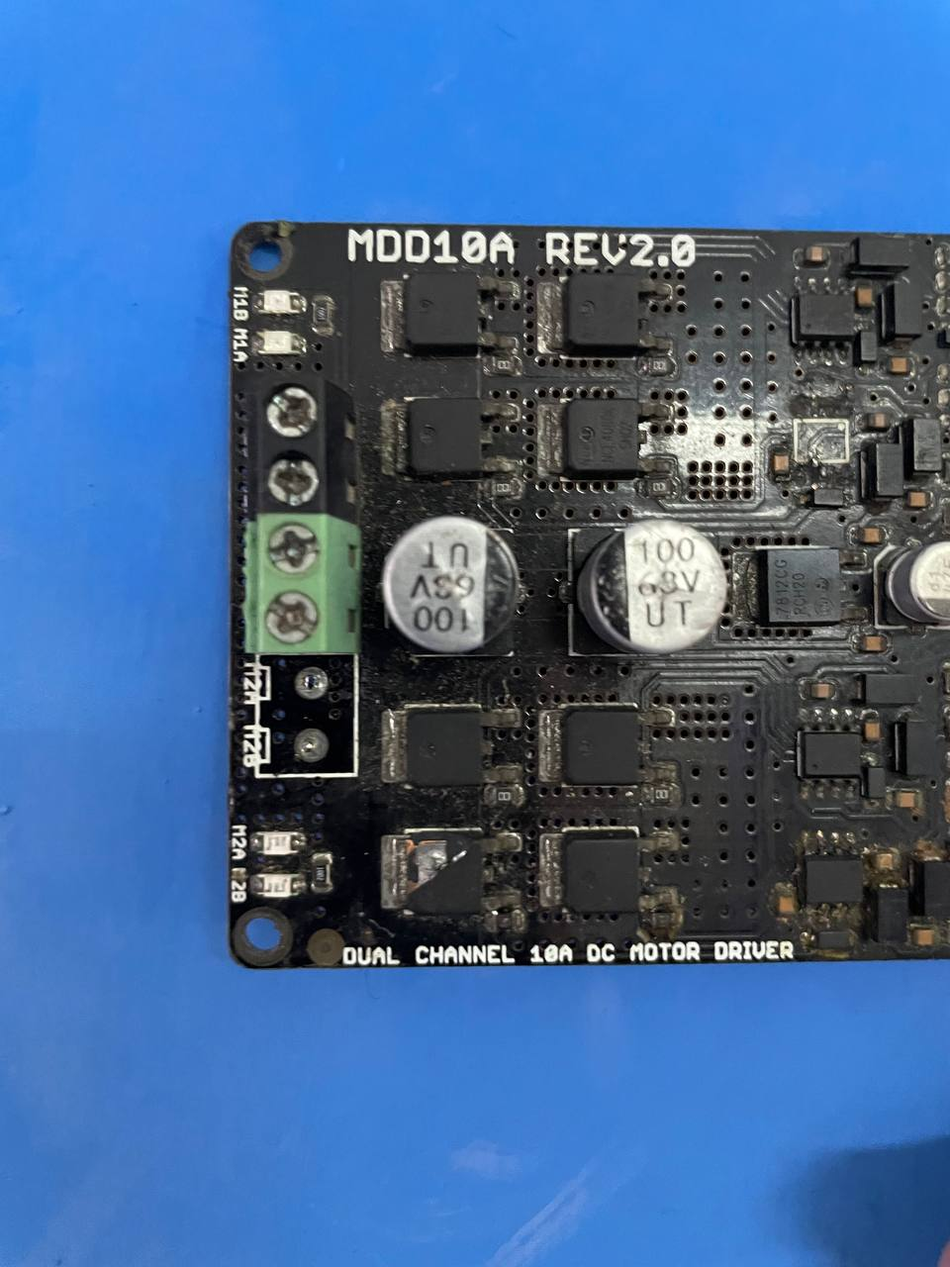broken_comp: (374, 828, 505, 923)
missing_comp: (789, 413, 856, 472)
missing_tb: (238, 644, 366, 784)
